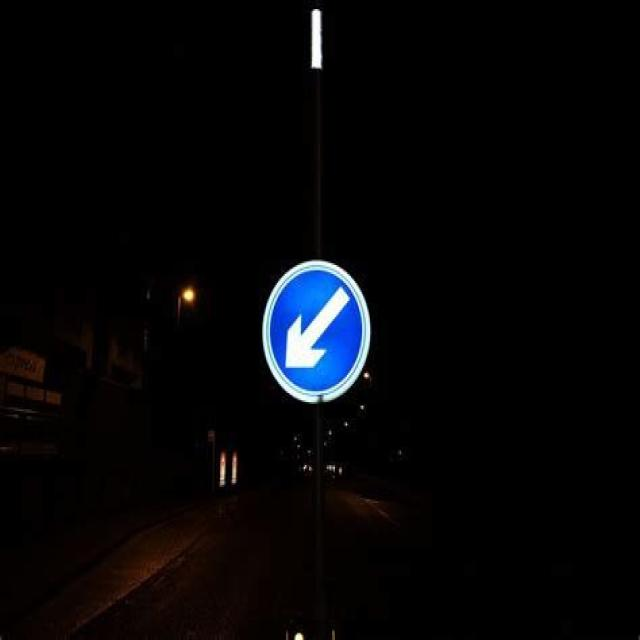compulsory_keep_left: (238, 223, 388, 422)
